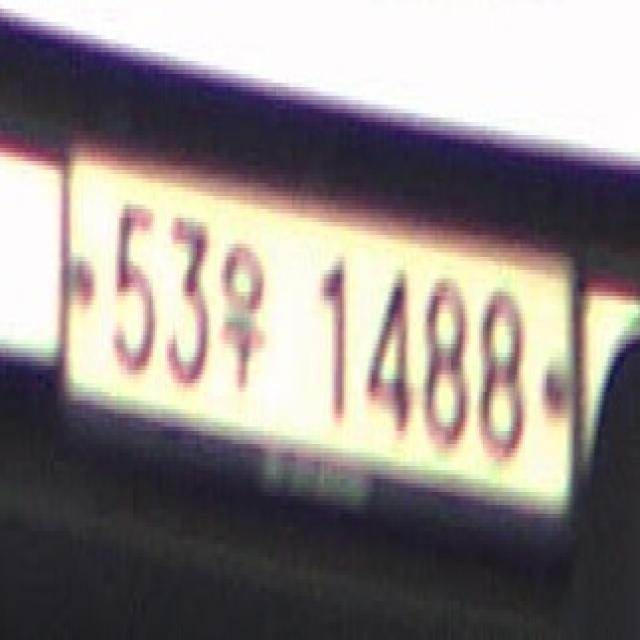1: (318, 244, 360, 431)
3: (161, 213, 211, 392)
4: (368, 244, 419, 444)
5: (105, 187, 157, 392)
8: (471, 287, 535, 483), (425, 266, 469, 462)
license_plate: (52, 144, 586, 579)
u: (211, 231, 276, 405)
